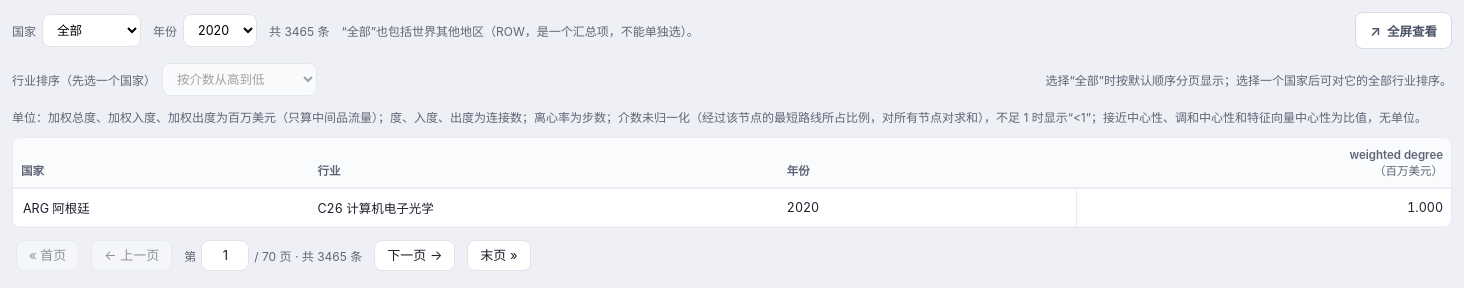
Test: RSTEP02 step 5 year change resets page and cannot reuse the previous year's global range
Expected: the number of column headings with class "indicator-row-header" is 1, [13,189,310,226]
Click the button "下一页 →".
click(415, 255)  # box [374,240,455,271]
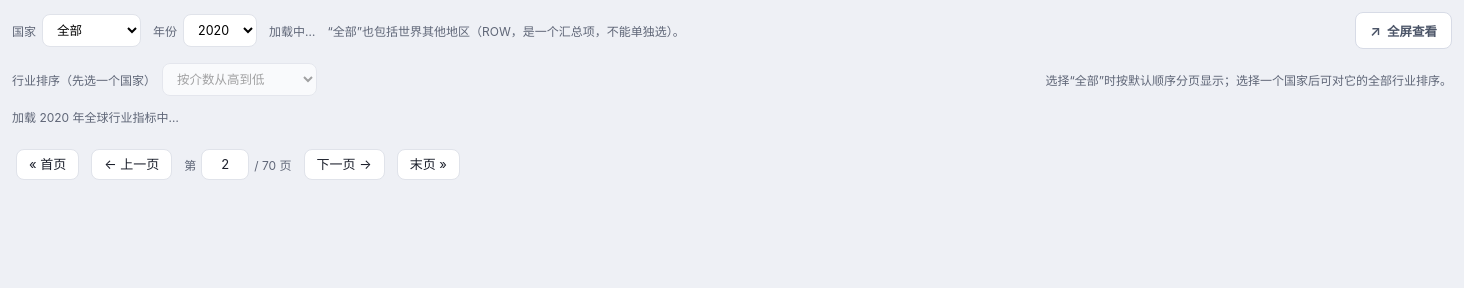
Select "2019" in the dropdown labelled "年份" at x=220, y=30, box [183,14,257,47]
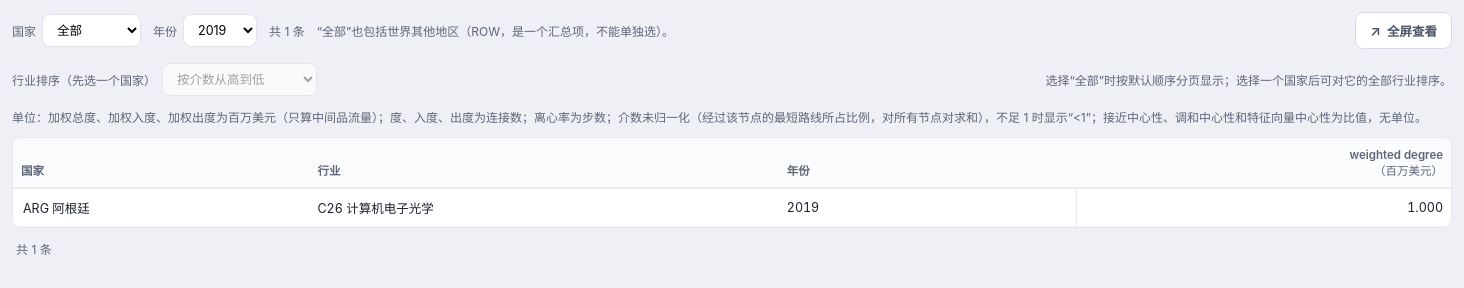
Result: the button "下一页 →" is gone
Result: the number of column headings with class "indicator-row-header" is 1 at [13,189,310,226]
Result: the element showing "共 1 条" is shown at [16,242,52,257]
